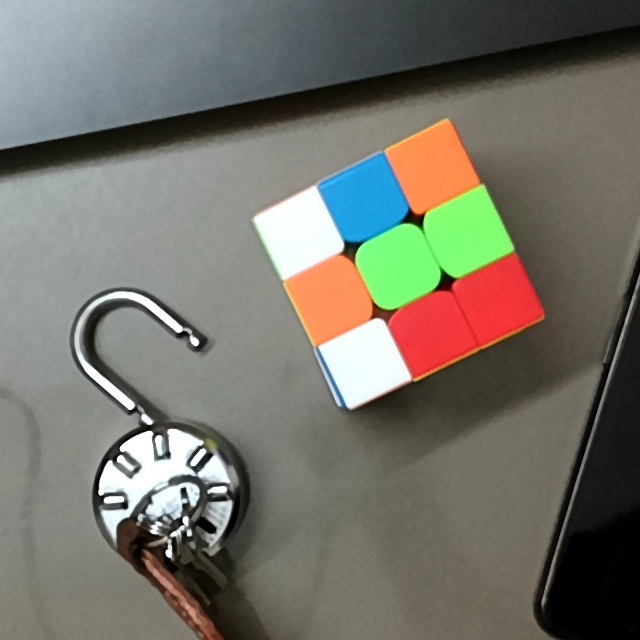tile: (408, 137, 457, 194), (337, 176, 392, 225), (310, 269, 357, 326), (377, 236, 422, 295), (439, 209, 491, 260), (407, 307, 458, 358), (274, 210, 325, 260), (476, 274, 526, 324), (342, 337, 389, 384)
